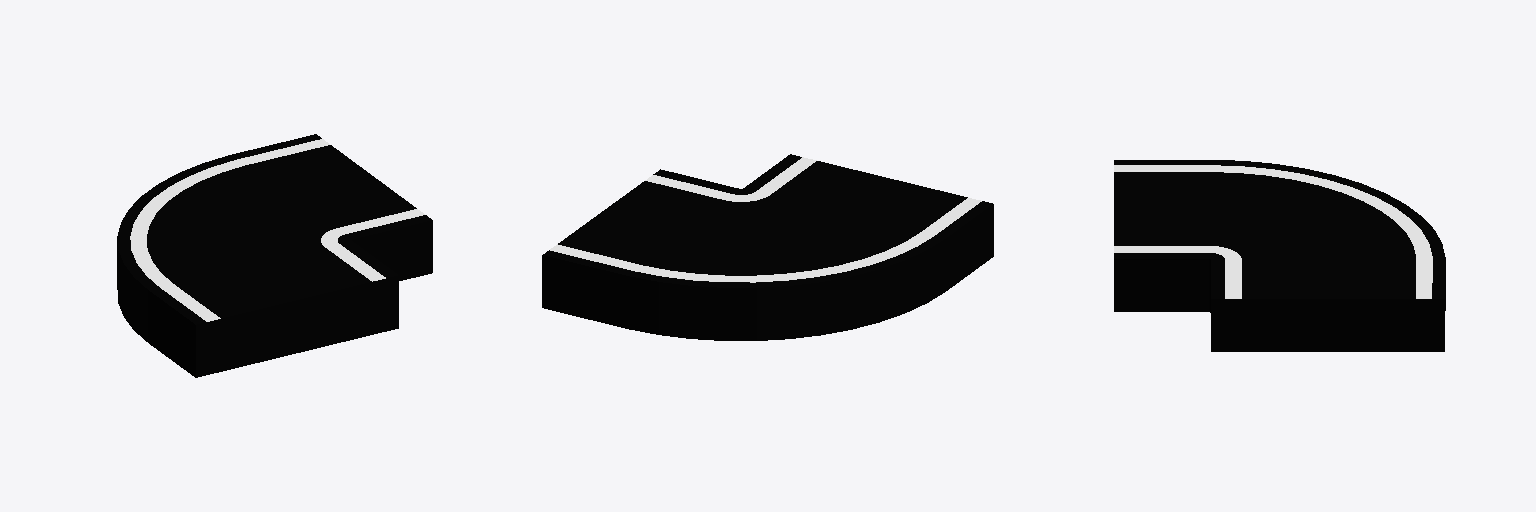
The model's file is sidou_R.obj.
3 views of the same model, side by side, from view 1: azimuth 30°, elevation 25°; view 2: azimuth 150°, elevation 25°; view 3: azimuth 270°, elevation 25° (orthographic).
Visible parts, largest first — view 1: Cube; view 2: Cube; view 3: Cube.
Part boxes in pixels (bbox=[...]): Cube: bbox=[117, 134, 432, 377]; Cube: bbox=[542, 154, 993, 340]; Cube: bbox=[1114, 160, 1445, 351].
Bounding box in the file's own units: 5.62 × 1 × 5.64.